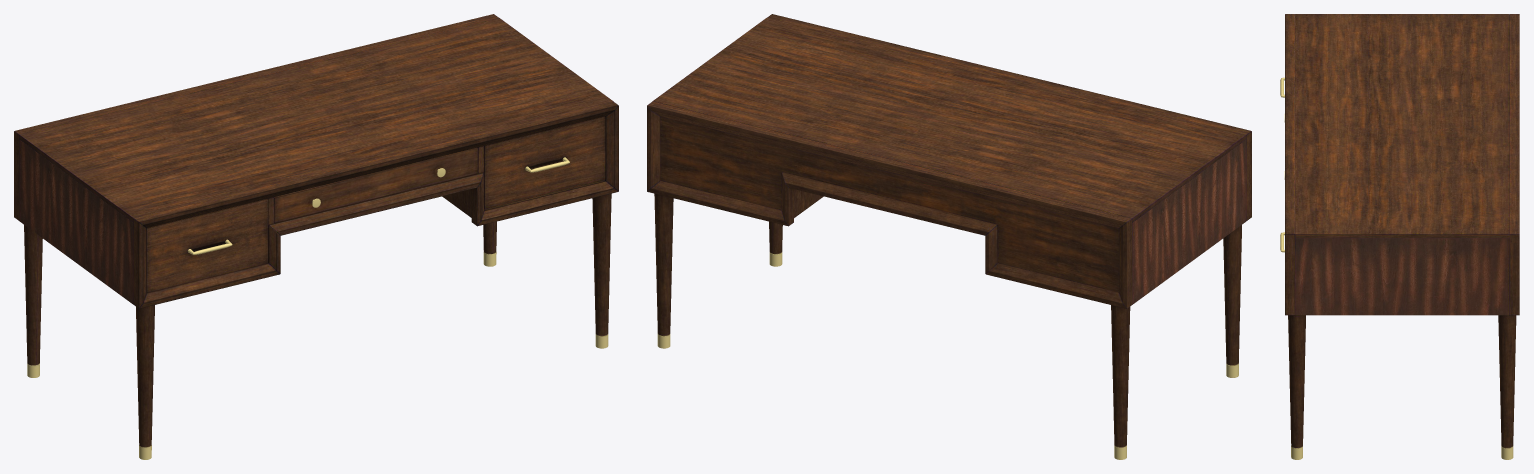
The model's file is rivet_anne_desk.glb.
3 renders of one model, left to right at view 1: azimuth 30°, elevation 25°; view 2: azimuth 150°, elevation 25°; view 3: azimuth 270°, elevation 25°, orthographic. The views are drawn at different scales.
Parts seen in each view (by area): view 1: RootNode; view 2: RootNode; view 3: RootNode.
Boxes of the visible parts, x1,y1,x2,y2 form: RootNode: (14, 14, 618, 459); RootNode: (647, 14, 1251, 459); RootNode: (1280, 14, 1519, 459).
Size of the model in its own units: 1.57 by 0.7618 by 0.7245.
Materials: 1 (1 with a texture image).
